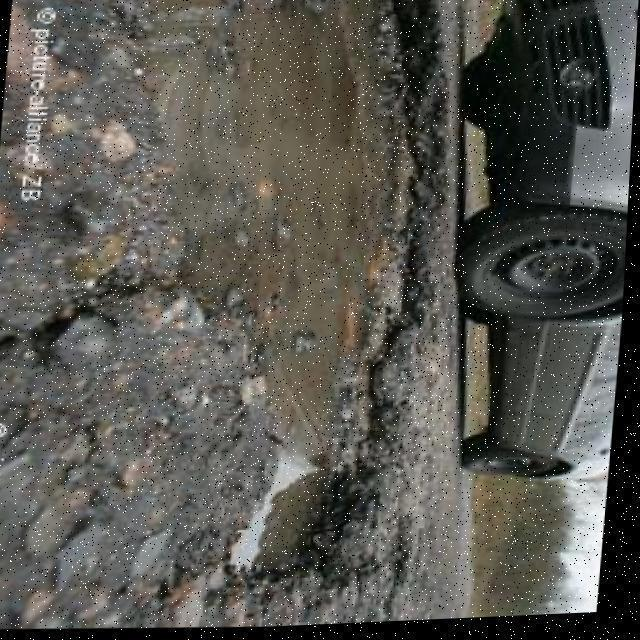Pothole: (112, 0, 446, 607)
